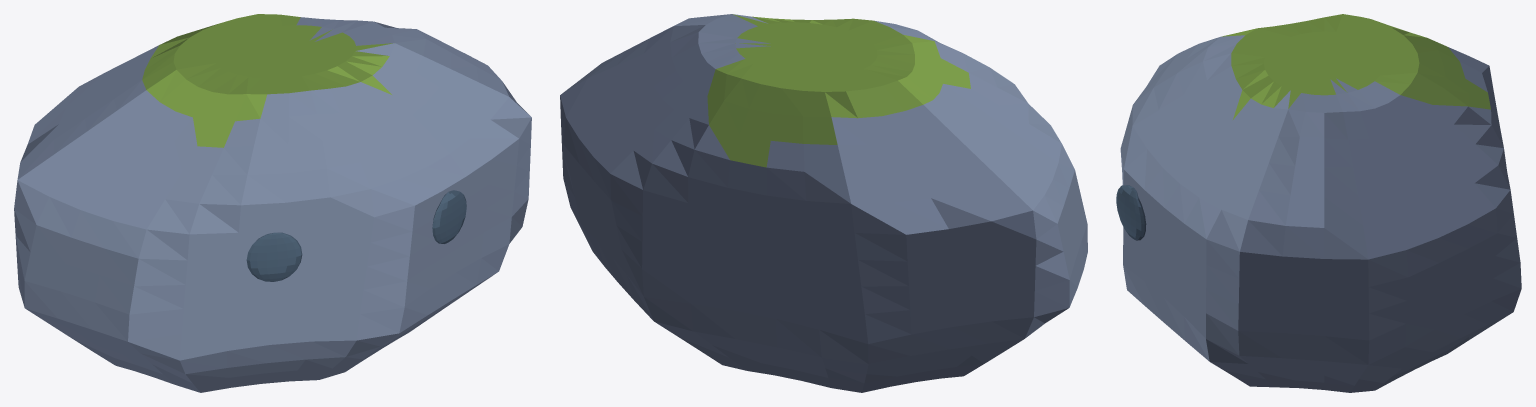
File: stone.glb
The picture shows the model from 3 angles, left to right: view 1: azimuth 30°, elevation 25°; view 2: azimuth 150°, elevation 25°; view 3: azimuth 270°, elevation 25°; orthographic projection.
Parts seen in each view (by area): view 1: stone; view 2: stone; view 3: stone.
Part boxes in pixels (x1,y1,x2,y2): stone: [14, 14, 531, 392]; stone: [560, 14, 1087, 392]; stone: [1116, 14, 1521, 392].
Size of the model in its own units: 2.19 by 1.22 by 1.57.
